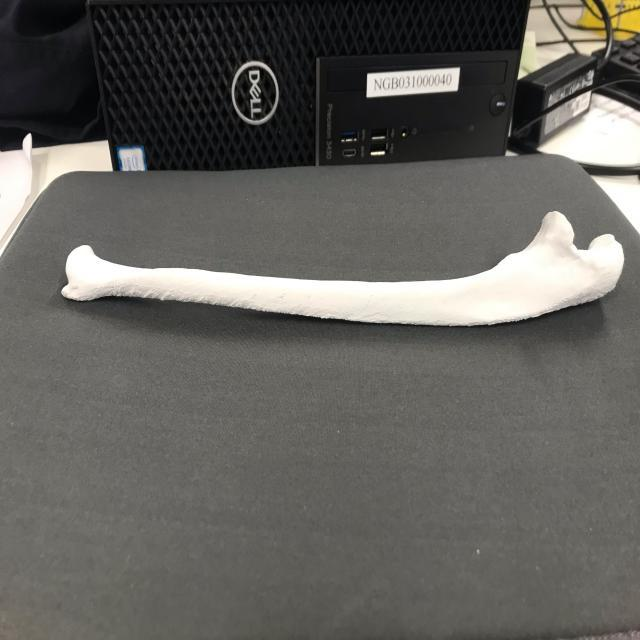bone: (57, 205, 627, 339)
